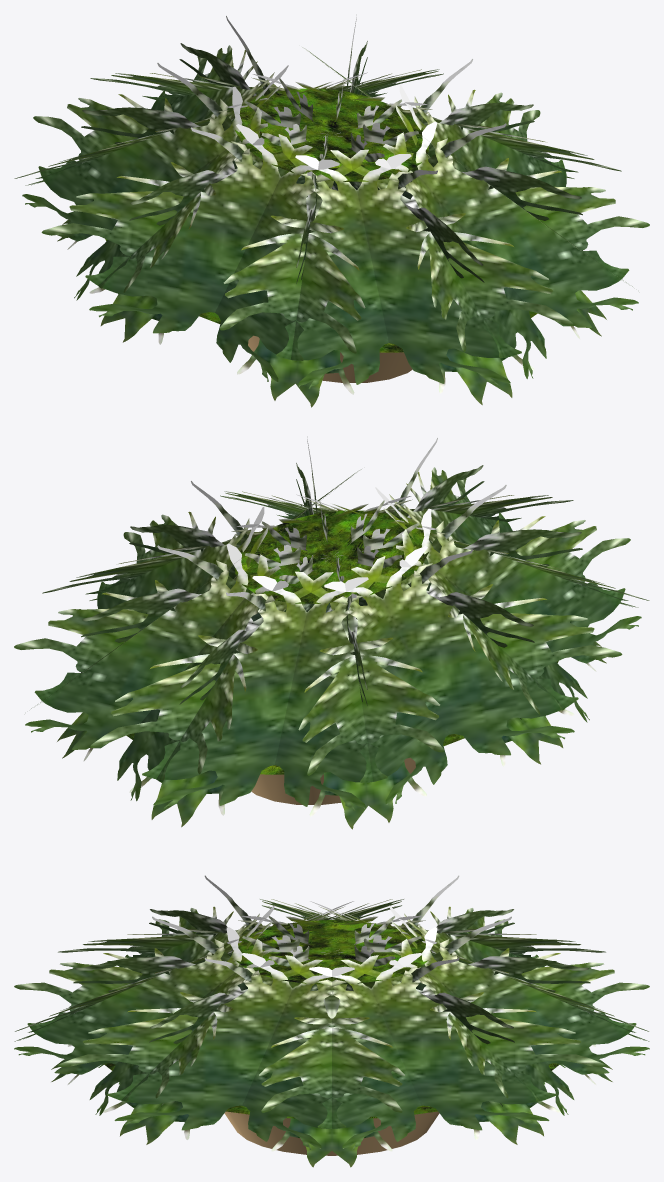
File: plant2.fbx
3 views of the same model, one above another, from view 1: azimuth 30°, elevation 25°; view 2: azimuth 150°, elevation 25°; view 3: azimuth 270°, elevation 25° (orthographic). The views are drawn at different scales.
Parts seen in each view (by area): view 1: polySurface1; view 2: polySurface1; view 3: polySurface1.
Boxes of the visible parts, <box> form: polySurface1: <box>14,14,649,407</box>; polySurface1: <box>14,436,649,829</box>; polySurface1: <box>14,875,649,1167</box>.
Size of the model in its own units: 42.4 by 19.87 by 55.13.
Materials: 4 (3 with a texture image).
